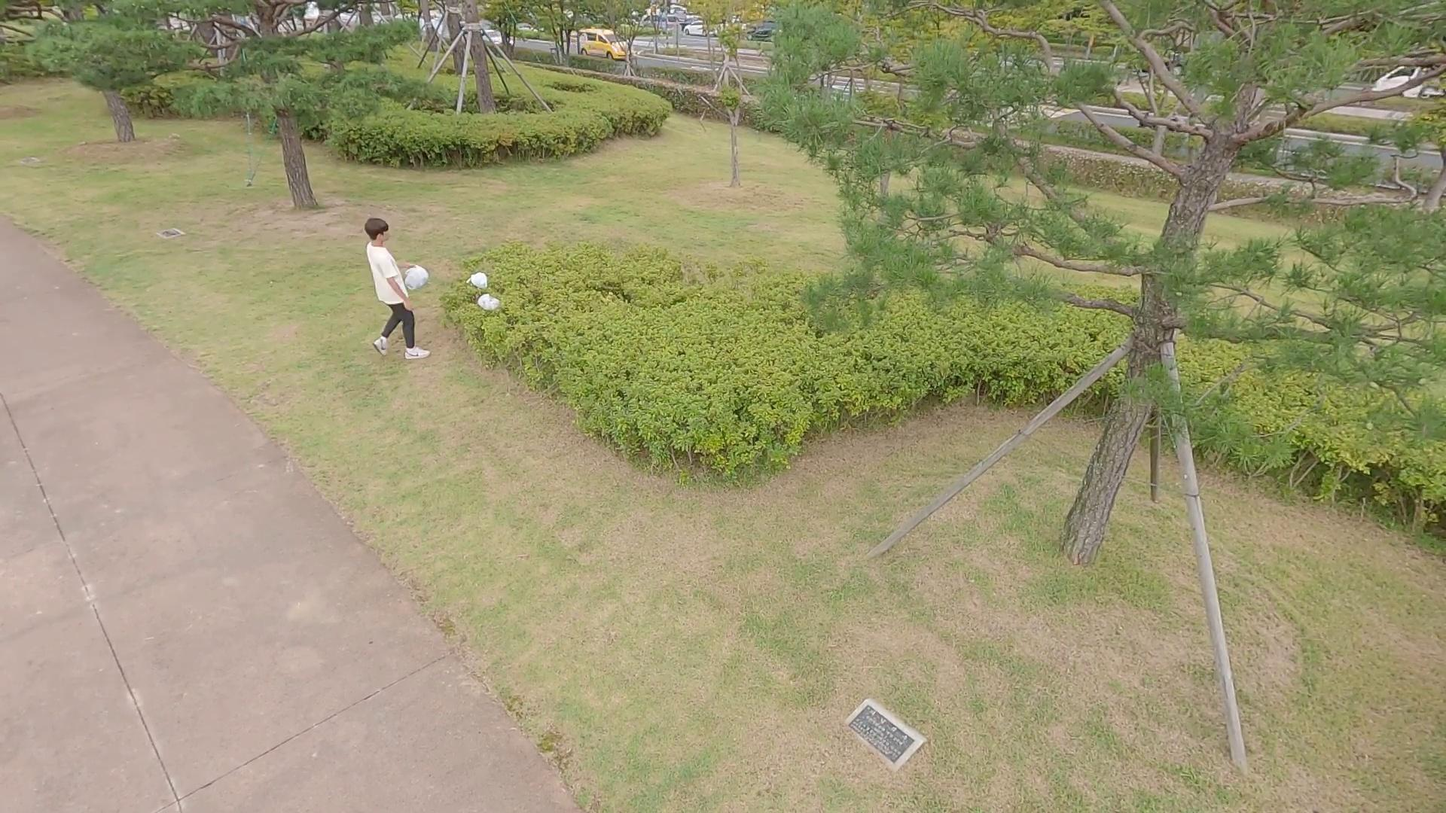person: (363, 216, 431, 362)
trash: (405, 264, 429, 293), (477, 292, 500, 315), (467, 271, 489, 292)
